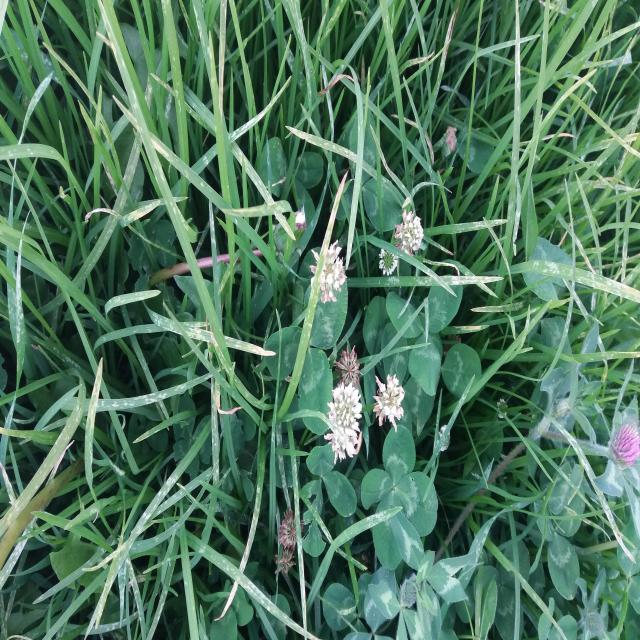Four Leaf Clover: (360, 424, 438, 572)
